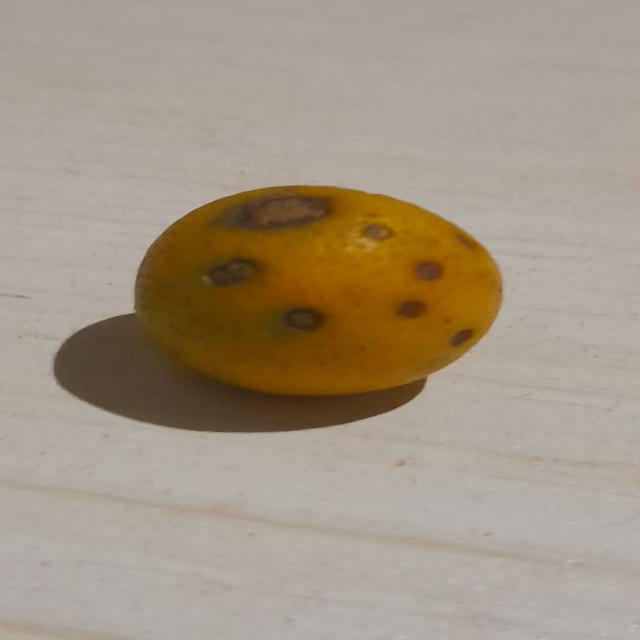black spot: (130, 183, 506, 403)
